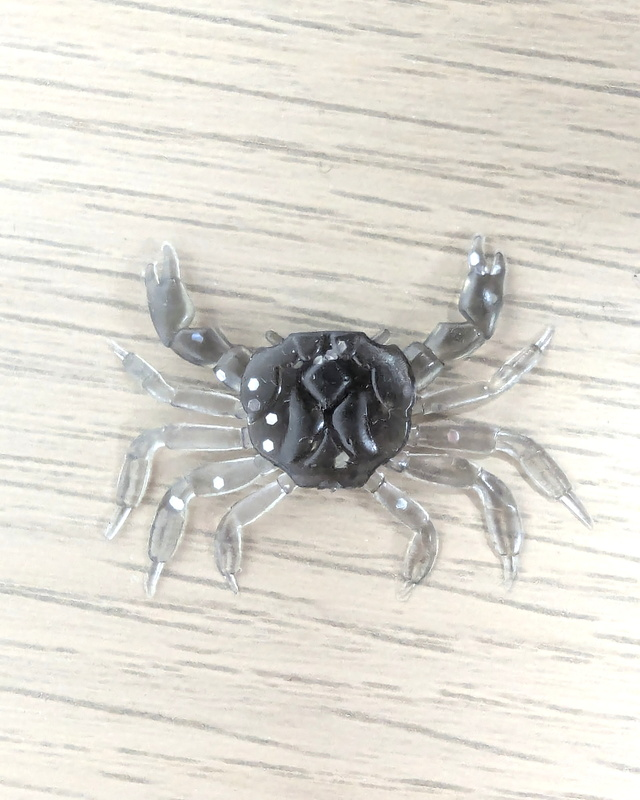crab1: (98, 234, 596, 598)
